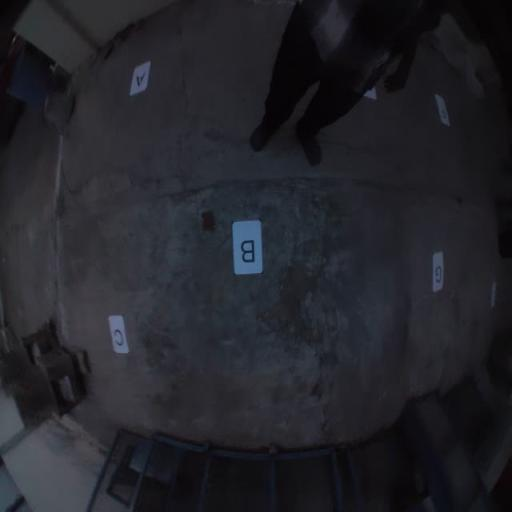A: (129, 61, 151, 96)
B: (232, 220, 262, 275)
C: (107, 315, 130, 354)
G: (432, 252, 445, 293)
H: (434, 93, 452, 127)
